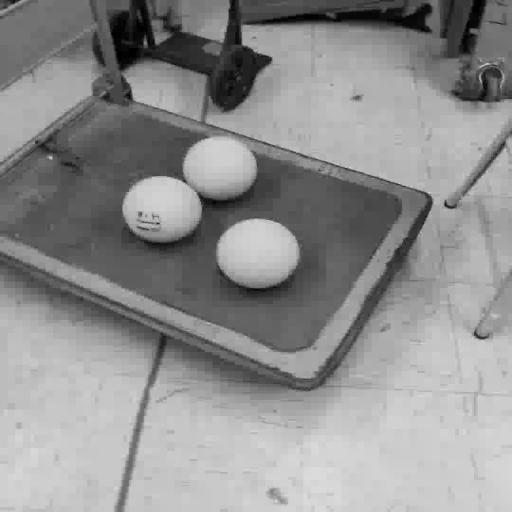fuel: (217, 219, 300, 288), (122, 176, 202, 243), (183, 137, 257, 201)
